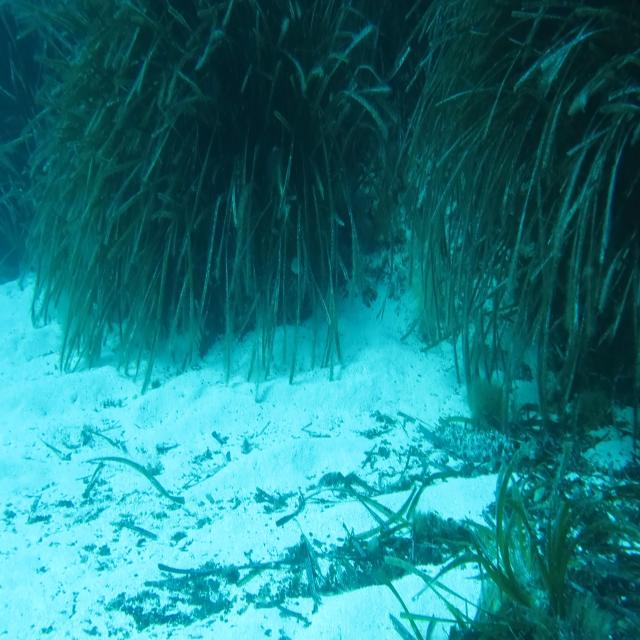SA: (290, 256, 306, 277)
vegetation: (68, 0, 469, 372), (467, 2, 640, 633), (122, 506, 469, 638), (0, 0, 66, 326)
